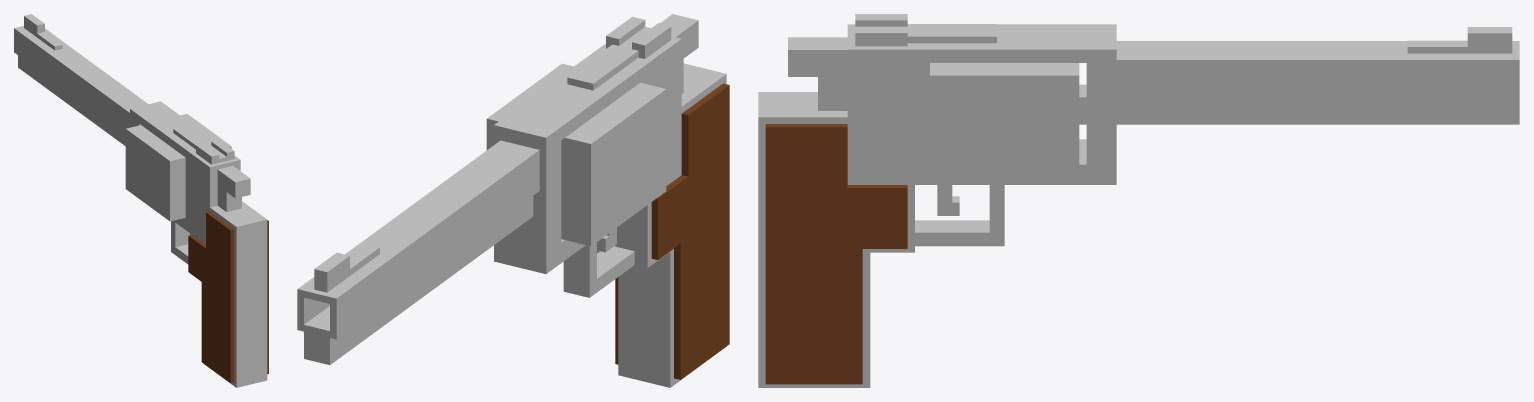
The model's file is gun.obj.
The picture shows the model from 3 angles, left to right: view 1: azimuth 30°, elevation 25°; view 2: azimuth 150°, elevation 25°; view 3: azimuth 270°, elevation 25°; orthographic projection. The views are drawn at different scales.
Visible parts, largest first — view 1: gun; view 2: gun; view 3: gun.
Boxes of the visible parts, x1,y1,x2,y2 form: gun: [14, 14, 268, 387]; gun: [297, 14, 729, 387]; gun: [758, 14, 1519, 387].
Size of the model in its own units: 16 by 52 by 102.
Materials: 1 (1 with a texture image).
